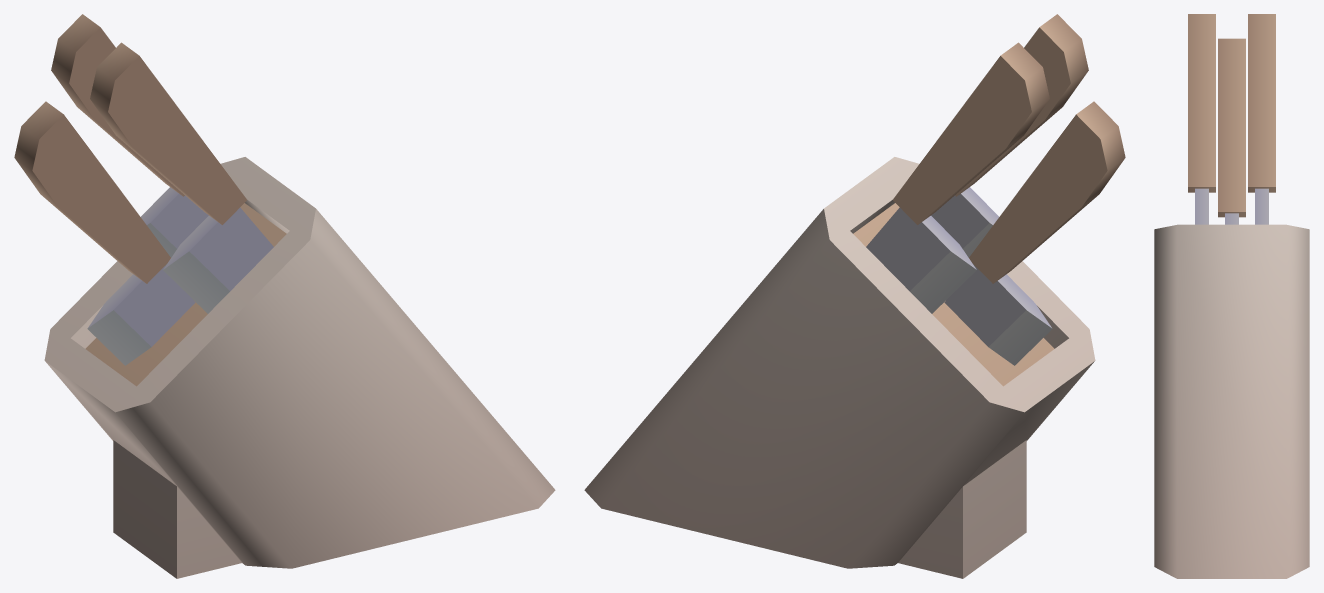
The model's file is knife-block.glb.
The picture shows the model from 3 angles, left to right: view 1: azimuth 30°, elevation 25°; view 2: azimuth 150°, elevation 25°; view 3: azimuth 270°, elevation 25°; orthographic projection. The views are drawn at different scales.
Parts seen in each view (by area): view 1: knife-block; view 2: knife-block; view 3: knife-block.
Part boxes in pixels (bbox=[...]): knife-block: bbox=[14, 14, 555, 578]; knife-block: bbox=[584, 14, 1125, 578]; knife-block: bbox=[1154, 14, 1309, 578].
Size of the model in its own units: 0.4897 by 0.5101 by 0.1708.
